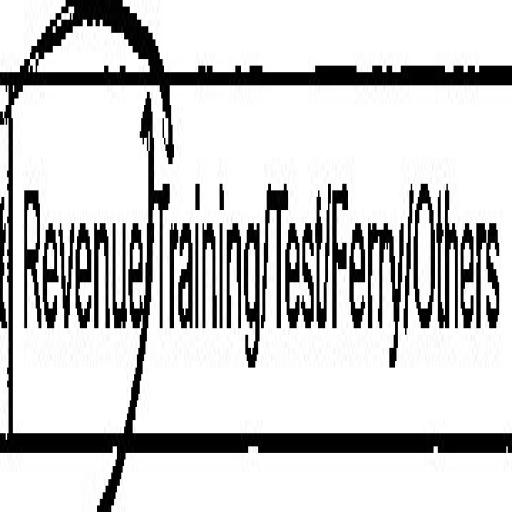check: (11, 0, 152, 512)
